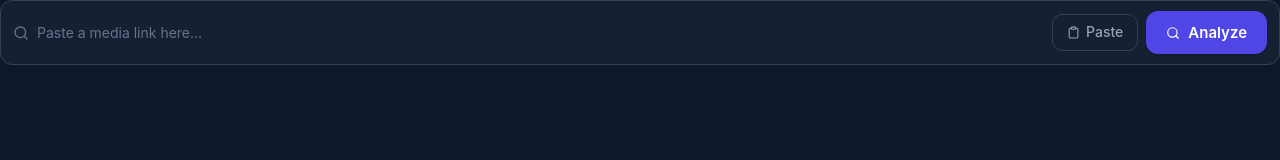
UrlInput — clear button › clears the input when the clear button is clicked
Type "https://example.com" into the field named "media url" at (541, 33), box [37,23,1044,43]
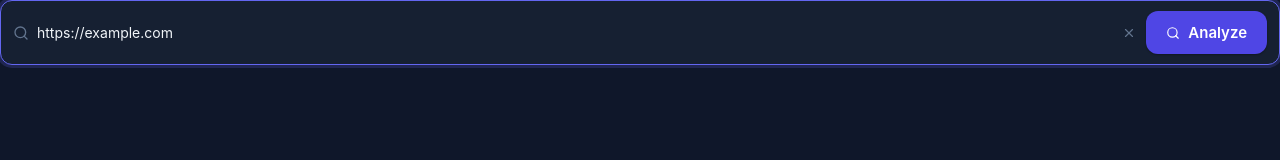
Click the button named "clear url" at (1129, 33), box [1120,24,1138,42]
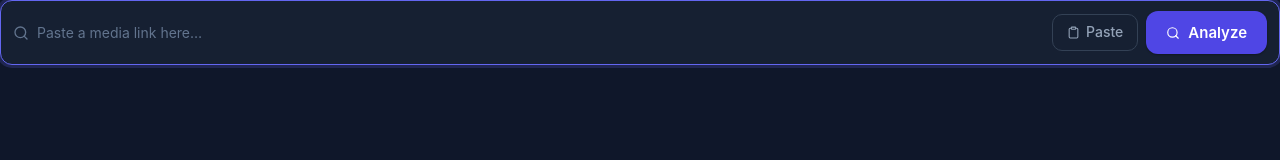
expect the field named "media url" is empty: met, box [37,23,1044,43]
